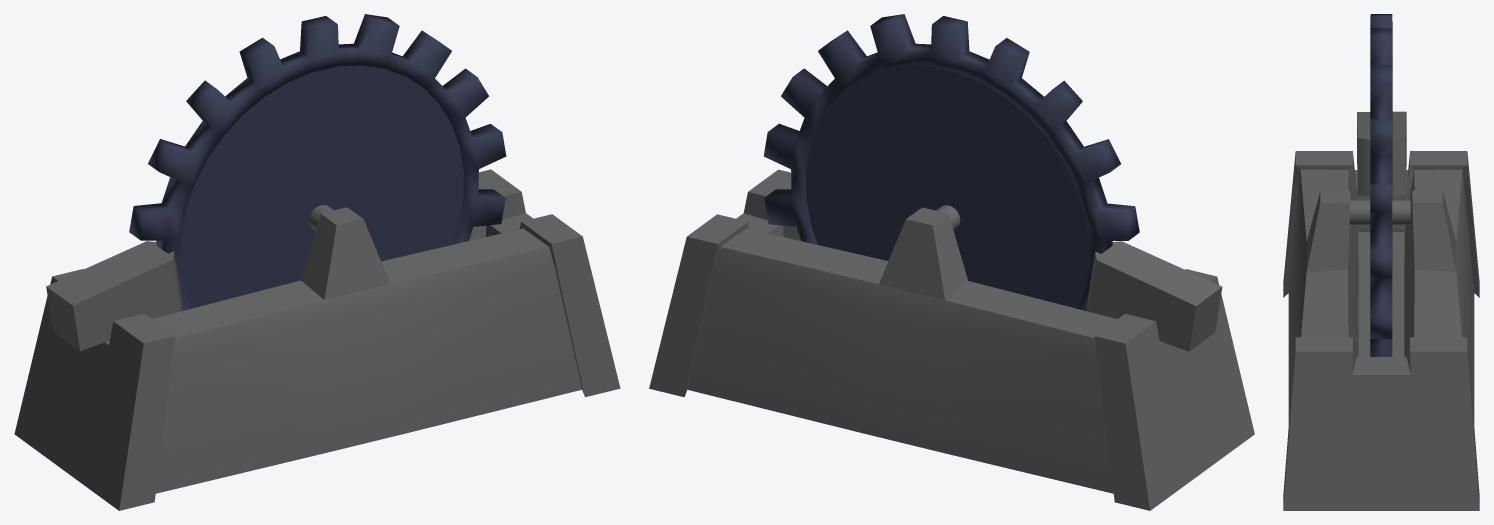
The model's file is GearDriveMagSwitch.FBX.
The picture shows the model from 3 angles, left to right: view 1: azimuth 30°, elevation 25°; view 2: azimuth 150°, elevation 25°; view 3: azimuth 270°, elevation 25°; orthographic projection. The views are drawn at different scales.
Visible parts, largest first — view 1: GearSwitchBase, GearSwitch, RS_magPlate, Box002, LS_magPlate; view 2: GearSwitchBase, GearSwitch, RS_magPlate, Box002, LS_magPlate; view 3: LS_magPlate, GearSwitchBase, GearSwitch, RS_magPlate, Box002, Cylinder055.
Part boxes in pixels (<box>): GearSwitchBase: <box>152,207,581,493</box>; GearSwitch: <box>129,14,506,310</box>; RS_magPlate: <box>14,269,174,510</box>; Box002: <box>46,241,182,351</box>; LS_magPlate: <box>478,169,620,397</box>; GearSwitchBase: <box>687,207,1117,493</box>; GearSwitch: <box>763,14,1139,311</box>; RS_magPlate: <box>1094,269,1254,510</box>; Box002: <box>1086,241,1222,351</box>; LS_magPlate: <box>649,169,791,397</box>; LS_magPlate: <box>1283,337,1479,510</box>; GearSwitchBase: <box>1288,169,1474,424</box>; GearSwitch: <box>1370,14,1392,356</box>; RS_magPlate: <box>1283,151,1479,297</box>; Box002: <box>1357,111,1406,196</box>; Cylinder055: <box>1349,200,1410,225</box>.
Size of the model in its own units: 1.39 by 1.01 by 0.4956.
